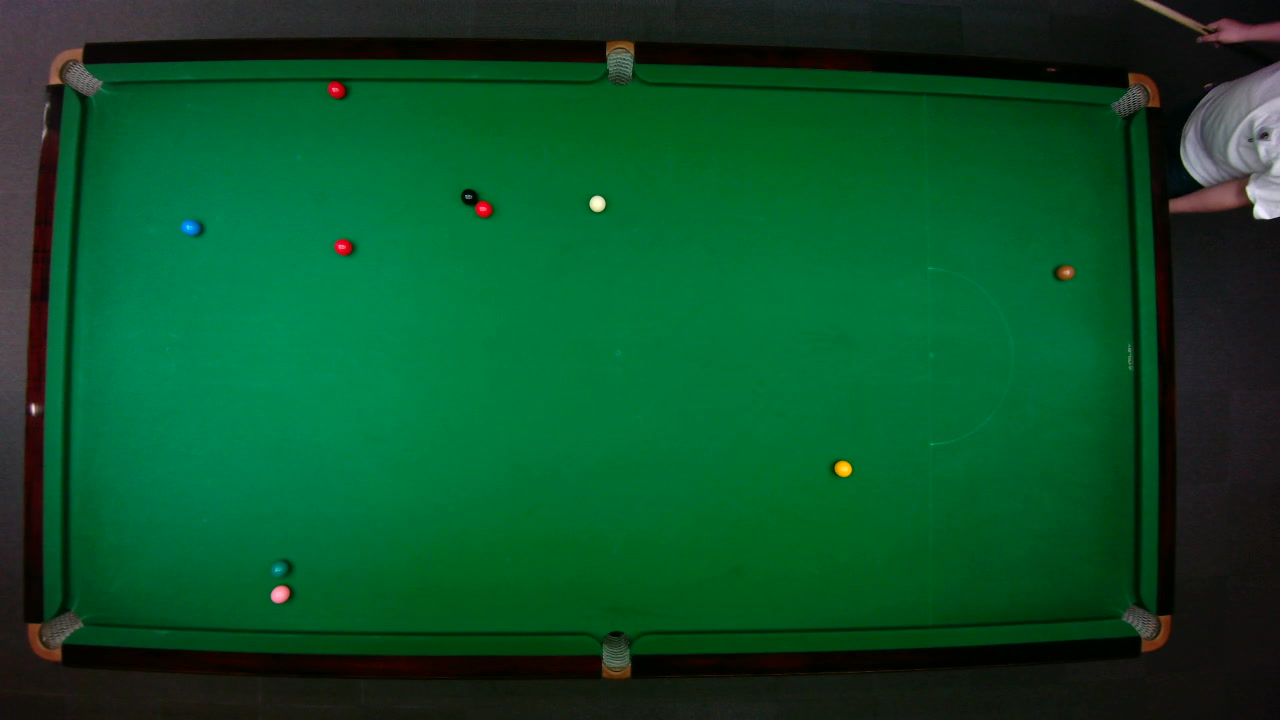bag: (25, 608, 84, 660), (46, 47, 103, 97), (1119, 603, 1171, 651), (1109, 71, 1160, 118), (601, 629, 630, 680), (605, 38, 633, 86)
black: (460, 188, 478, 204)
blue: (179, 218, 201, 236)
brown: (1054, 263, 1076, 280)
green: (269, 558, 290, 576)
pink: (269, 583, 291, 604)
red: (326, 79, 346, 99), (473, 199, 493, 218), (332, 237, 353, 255)
white: (587, 194, 606, 212)
yellow: (832, 458, 852, 477)
zone: (927, 266, 1013, 445)
